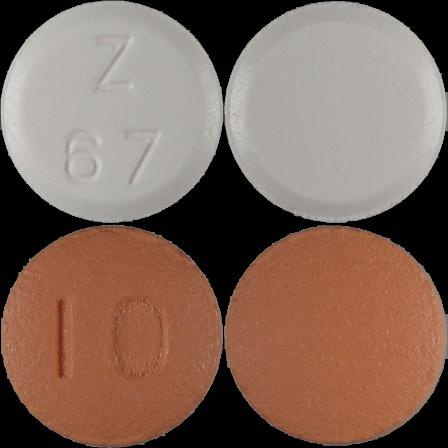12634-605: (0, 0, 224, 224)
